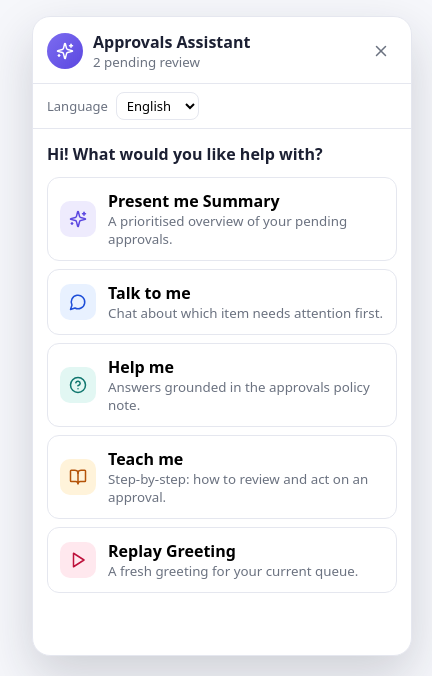
error and fallback states › tells the operator when a built-in (non-AI) answer is shown
Click the button "Present me Summary" at (222, 219), box left=47, top=177, right=397, bottom=261
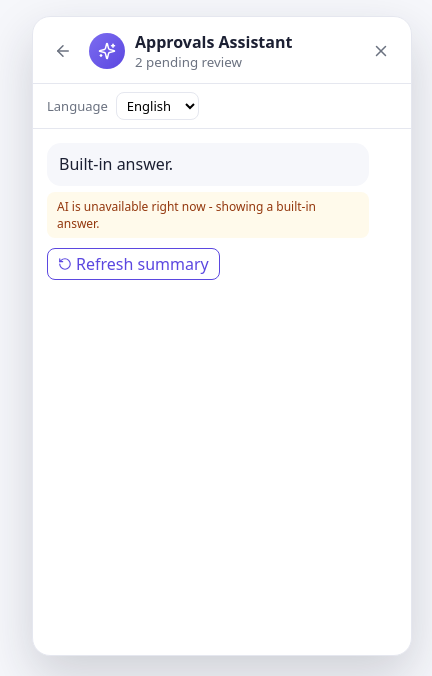
Now the text "Built-in answer." is shown, box left=47, top=143, right=369, bottom=186
Now the text with test id "fallback-notice" shows "unavailable", box left=57, top=198, right=316, bottom=232
